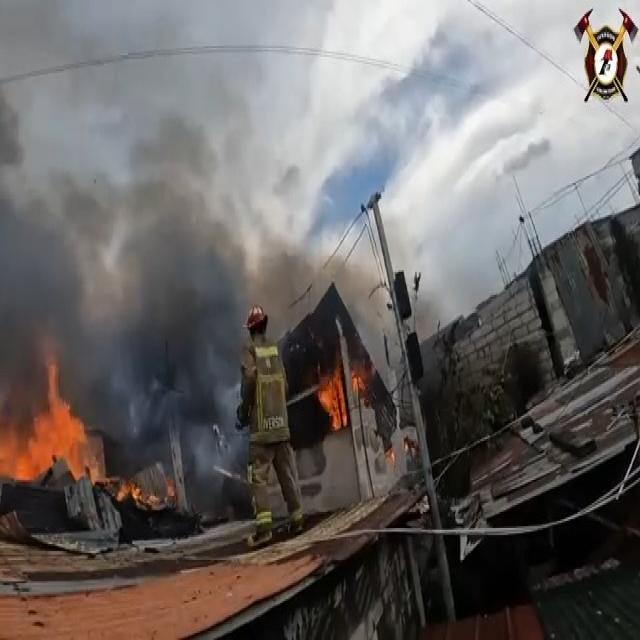Fire: (0, 334, 175, 510), (309, 360, 363, 430)
Smoke: (0, 108, 420, 512)
